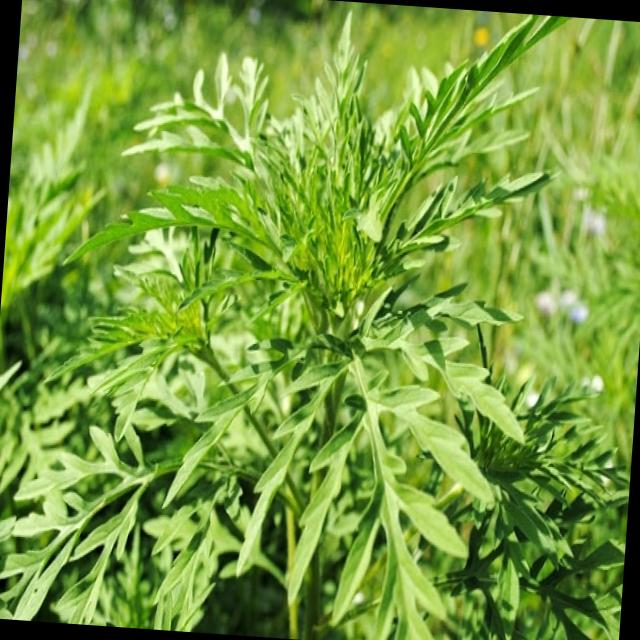ambrosia: (144, 47, 499, 558)
